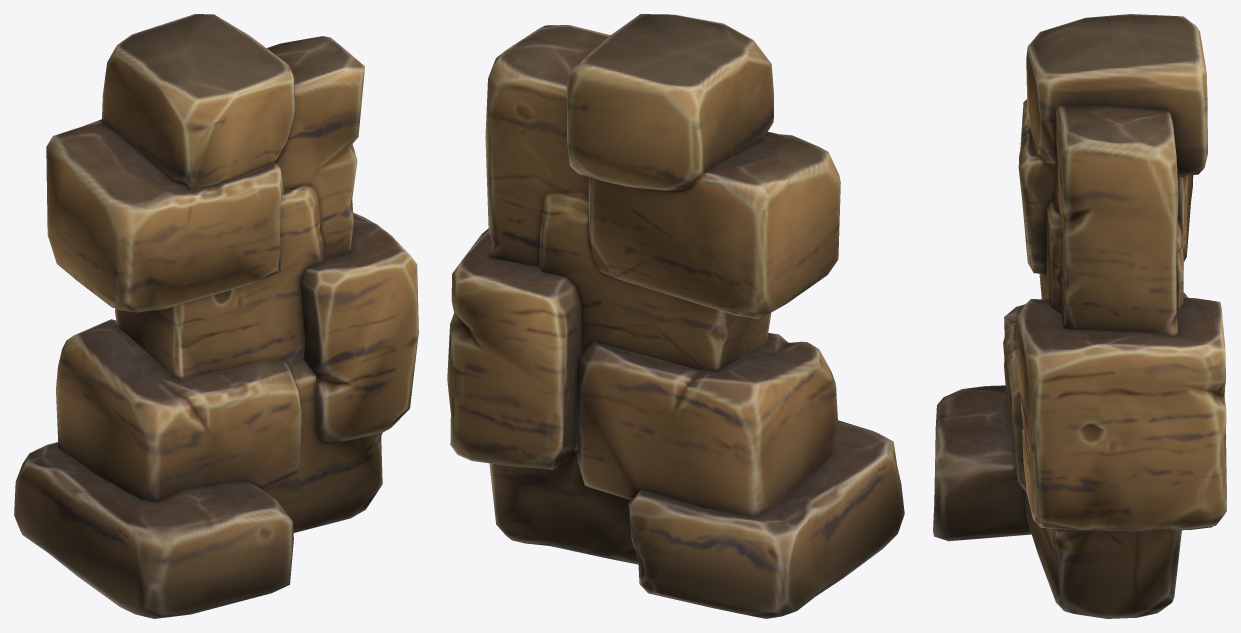
The model's file is SM_Gem_EyeOfTiger_004.fbx.
3 renders of one model, left to right at view 1: azimuth 30°, elevation 25°; view 2: azimuth 150°, elevation 25°; view 3: azimuth 270°, elevation 25°, orthographic. The views are drawn at different scales.
Visible parts, largest first — view 1: SM_Gem_EyeOfTiger_004; view 2: SM_Gem_EyeOfTiger_004; view 3: SM_Gem_EyeOfTiger_004.
Boxes of the visible parts, x1=… form: SM_Gem_EyeOfTiger_004: x1=14, y1=14, x2=418, y2=618; SM_Gem_EyeOfTiger_004: x1=447, y1=14, x2=904, y2=618; SM_Gem_EyeOfTiger_004: x1=933, y1=14, x2=1226, y2=618.
Size of the model in its own units: 62.47 by 87.53 by 46.01.
